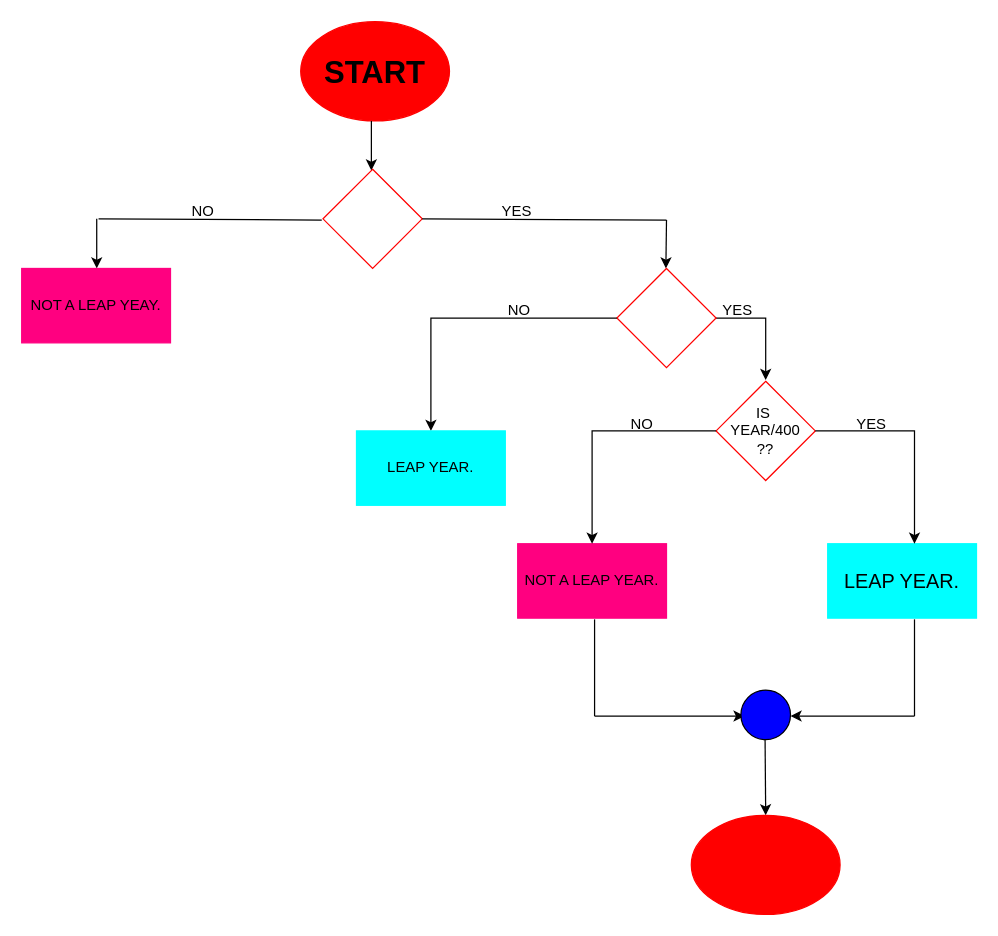
This 998x936 diagram has some shape labels left out. The shapes that lost their labels are listed below. From the top down, each one's box as (x1, y1, x2, y2) in pixels, then its label:
(322, 168, 422, 268): IS YEAR/4 ??
(616, 267, 716, 368): IS YEAR/100 ??
(690, 814, 840, 914): STOP
